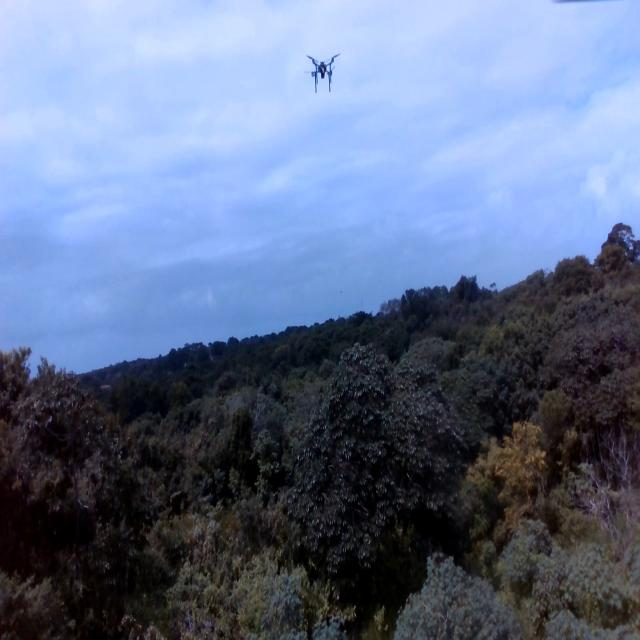-uav-: (302, 43, 343, 99)
